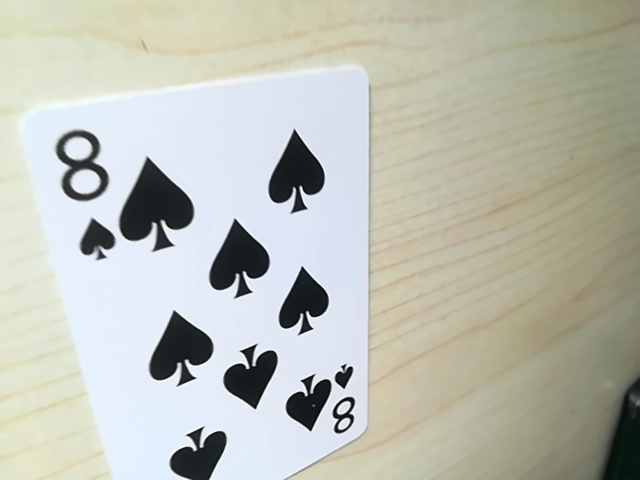ht 8: (39, 119, 126, 261), (317, 364, 360, 444)
